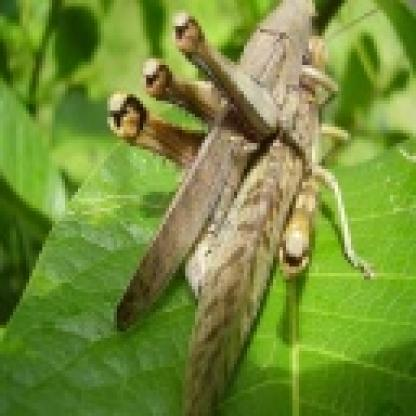grasshopper: (103, 2, 364, 410)
